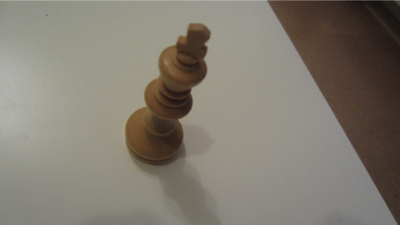white-king: (124, 21, 213, 170)
